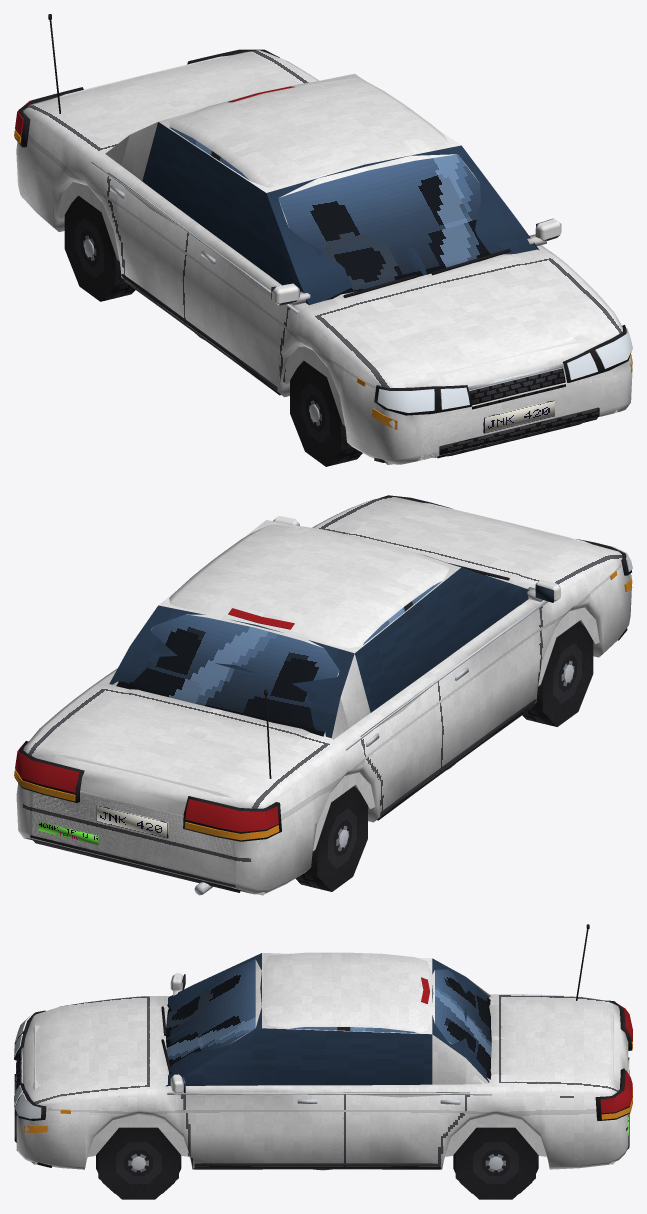
The model's file is p_car_sedan.glb.
3 views of the same model, one above another, from view 1: azimuth 30°, elevation 25°; view 2: azimuth 150°, elevation 25°; view 3: azimuth 270°, elevation 25° (orthographic). The views are drawn at different scales.
Parts seen in each view (by area): view 1: shell, lod1_mesh, lamps, wheel_fr, wheel_rr; view 2: shell, lod1_mesh, tails, inds, wheel_rr, wheel_fr; view 3: shell, lod1_mesh, tails, lamps, inds, wheel_rl, wheel_fl.
Part boxes in pixels (box(x1,y1,x2,y2)): shell: box(14, 14, 632, 464); lod1_mesh: box(22, 55, 617, 466); lamps: box(377, 328, 632, 412); wheel_fr: box(309, 400, 361, 464); wheel_rr: box(83, 235, 134, 299); shell: box(14, 495, 632, 895); lod1_mesh: box(31, 503, 599, 895); tails: box(15, 608, 294, 831); inds: box(14, 571, 632, 840); wheel_rr: box(296, 825, 348, 889); wheel_fr: box(523, 661, 574, 724); shell: box(14, 924, 632, 1169); lod1_mesh: box(16, 953, 627, 1199); tails: box(421, 977, 632, 1113); lamps: box(14, 1013, 41, 1118); inds: box(23, 1041, 632, 1132); wheel_rl: box(453, 1130, 538, 1193); wheel_fl: box(96, 1130, 181, 1193).
Bounding box in the file's own units: 2.02 × 1.58 × 4.76.
6 materials, 3 textured.
